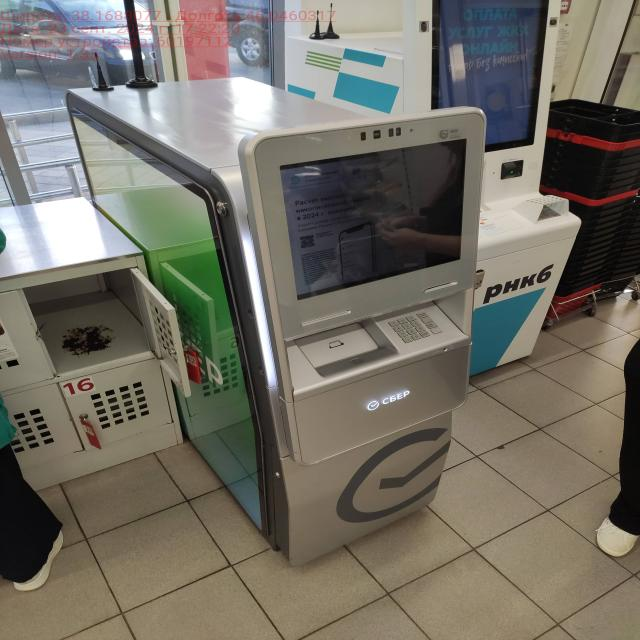bank: (64, 74, 488, 568)
